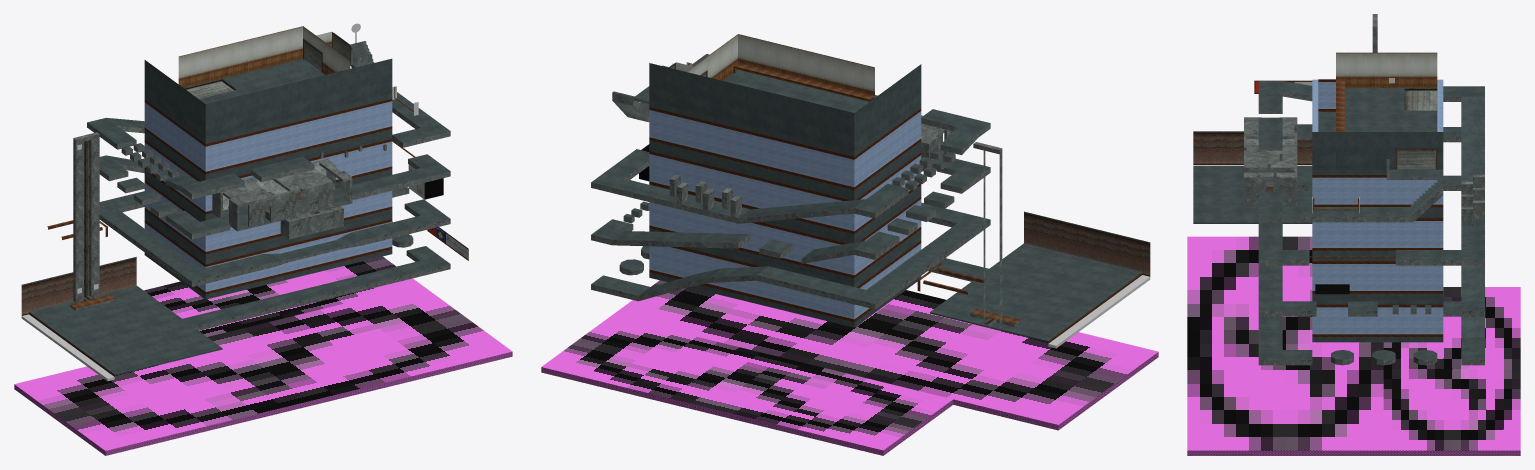
Rendered from deathrun_kosova.gltf.
3 renders of one model, left to right at view 1: azimuth 30°, elevation 25°; view 2: azimuth 150°, elevation 25°; view 3: azimuth 270°, elevation 25°, orthographic. The views are drawn at different scales.
Parts seen in each view (by area): view 1: *0, *57, *3, *6, *34, *1, *7, *8, *10, *70, *2, *49 (+1 smaller); view 2: *0, *57, *3, *6, *8, *7, *1, *2, *49, *34; view 3: *57, *0, *6, *3, *34, *8, *7, *1, *52, *67, *9, *24.
Part boxes in pixels (bbox=[...]): *0: bbox=[21, 26, 450, 376]; *57: bbox=[14, 256, 512, 455]; *3: bbox=[29, 285, 222, 375]; *6: bbox=[144, 101, 392, 171]; *34: bbox=[212, 159, 352, 231]; *1: bbox=[144, 221, 392, 291]; *7: bbox=[144, 183, 392, 251]; *8: bbox=[144, 141, 392, 211]; *10: bbox=[191, 286, 327, 329]; *70: bbox=[280, 206, 343, 239]; *2: bbox=[21, 314, 114, 381]; *49: bbox=[121, 143, 179, 177]; *0: bbox=[591, 34, 1150, 343]; *57: bbox=[541, 280, 1158, 455]; *3: bbox=[930, 243, 1142, 342]; *6: bbox=[649, 110, 921, 187]; *8: bbox=[649, 154, 921, 231]; *7: bbox=[649, 199, 921, 275]; *1: bbox=[649, 243, 921, 319]; *2: bbox=[1048, 275, 1150, 348]; *49: bbox=[892, 149, 944, 190]; *34: bbox=[921, 115, 954, 171]; *57: bbox=[1187, 236, 1520, 455]; *0: bbox=[1193, 14, 1484, 365]; *6: bbox=[1312, 79, 1443, 204]; *3: bbox=[1193, 166, 1312, 223]; *34: bbox=[1244, 117, 1297, 205]; *8: bbox=[1312, 221, 1443, 247]; *7: bbox=[1312, 264, 1443, 290]; *1: bbox=[1312, 307, 1443, 334]; *52: bbox=[1397, 149, 1435, 169]; *67: bbox=[1404, 90, 1437, 110]; *9: bbox=[1258, 350, 1282, 365]; *24: bbox=[1315, 284, 1349, 294].
Bounding box in the file's own units: 81.6 × 51.84 × 53.76.
